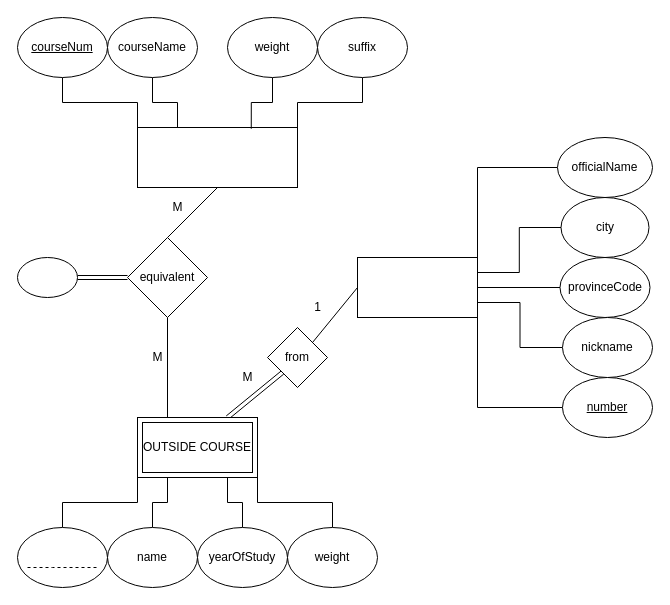
Some shapes in this 670 by 605 pixel diagram are drawn without their labels. Each missing label, with the centre of its shape:
courseCode: (x=62, y=557)
date: (x=47, y=277)
UNIVERSITIES: (x=417, y=287)
WESTERN COURSE: (x=217, y=157)
